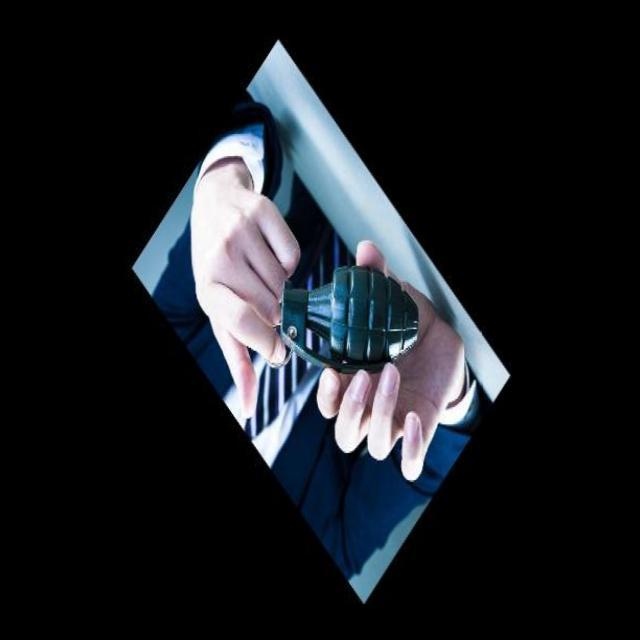grenade: (266, 256, 428, 369)
